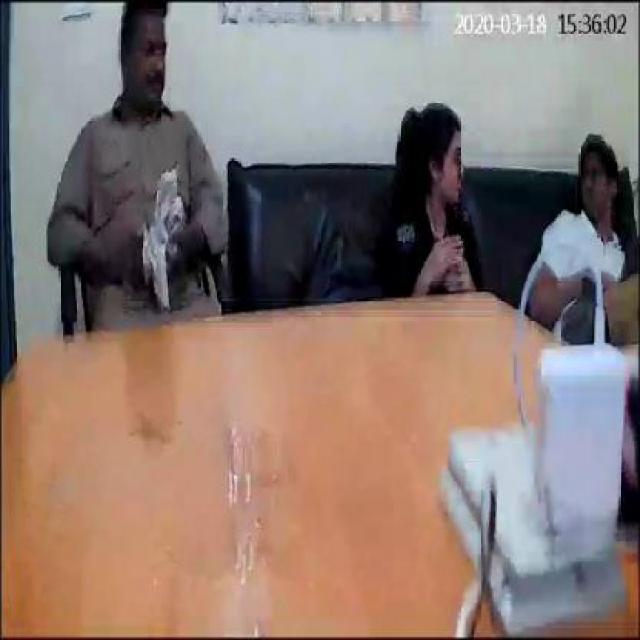spill: (150, 420, 302, 588)
